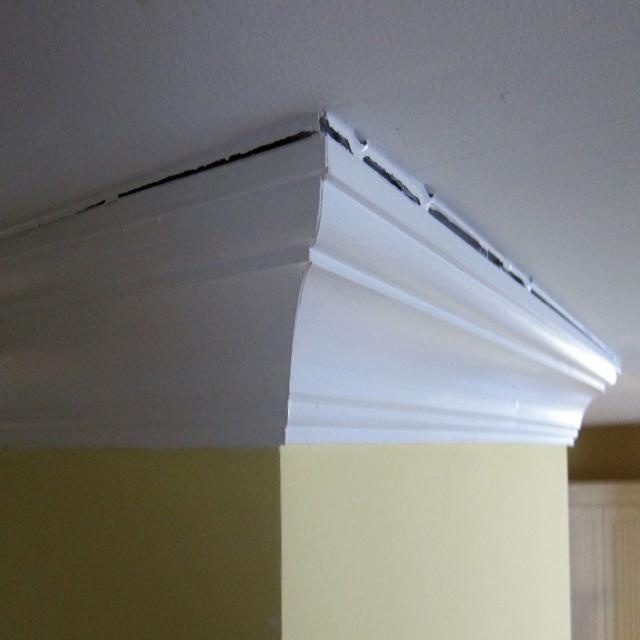leak: (320, 108, 606, 357), (28, 124, 324, 231)
